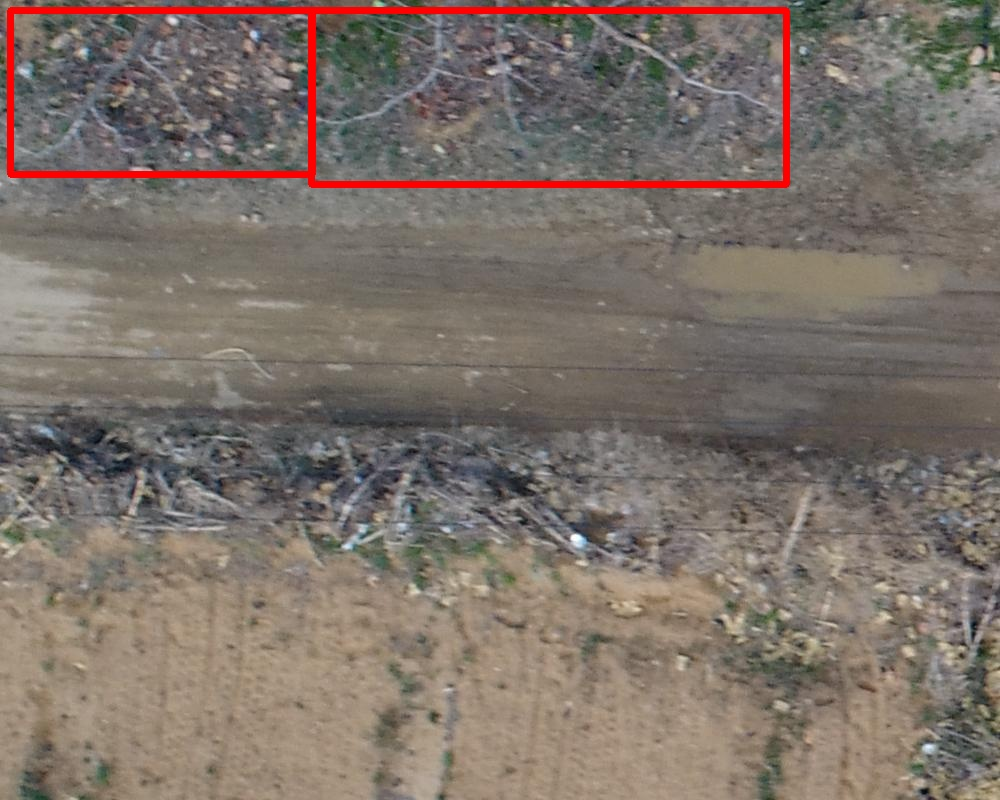apple: (311, 10, 786, 184), (10, 10, 312, 174)
